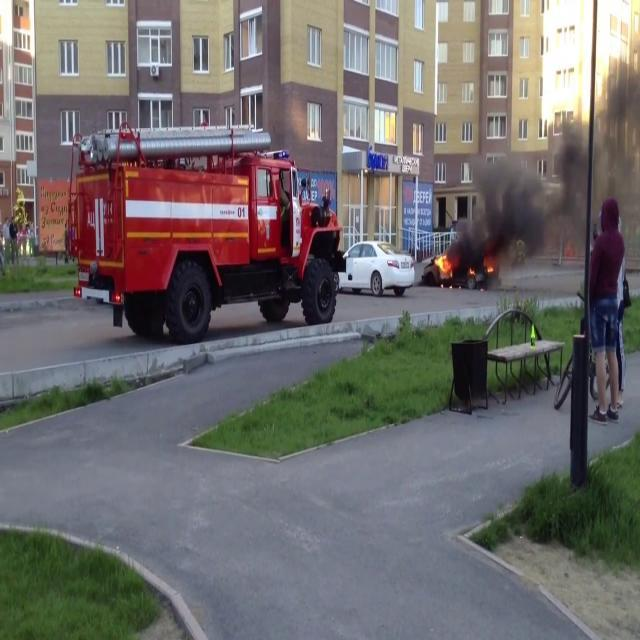Fire: (432, 249, 454, 280)
Smoke: (456, 54, 640, 272)
